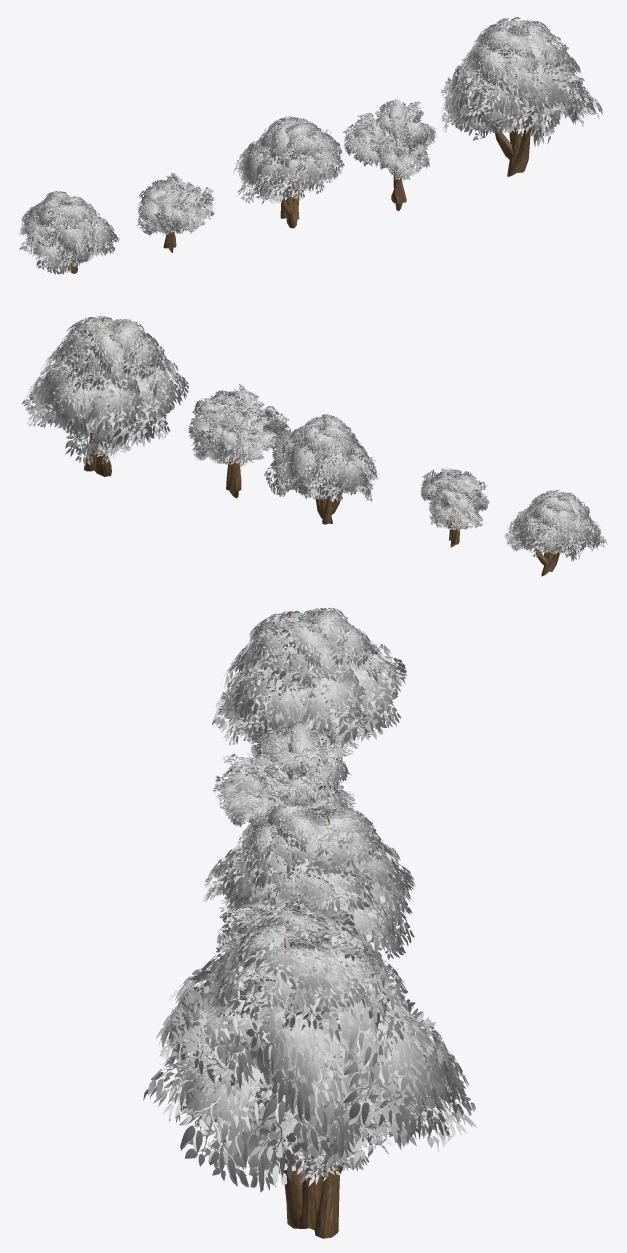
Rendered from Mini_Trees_A1.fbx.
3 views of the same model, one above another, from view 1: azimuth 30°, elevation 25°; view 2: azimuth 150°, elevation 25°; view 3: azimuth 270°, elevation 25° (orthographic). The views are drawn at different scales.
Parts seen in each view (by area): view 1: Mini_Tree_1A5, a5, Mini_Tree_1A3, Mini_Tree_1A1, a3, Mini_Tree_1A4, b5, a1, a4, Mini_Tree_1A2, a2, b4 (+3 smaller); view 2: Mini_Tree_1A5, a5, Mini_Tree_1A3, Mini_Tree_1A4, a3, Mini_Tree_1A1, b5, a4, a1, Mini_Tree_1A2, b4, a2 (+3 smaller); view 3: Mini_Tree_1A5, a5, Mini_Tree_1A1, Mini_Tree_1A3, b5, a1, a3, Mini_Tree_1A2, a2, b1, b2, b3 (+3 smaller).
Boxes of the visible parts, bbox=[...] form: Mini_Tree_1A5: bbox=[439, 17, 602, 176]; a5: bbox=[441, 18, 602, 175]; Mini_Tree_1A3: bbox=[234, 116, 344, 227]; Mini_Tree_1A1: bbox=[18, 191, 117, 273]; a3: bbox=[236, 116, 342, 228]; Mini_Tree_1A4: bbox=[343, 99, 435, 210]; b5: bbox=[441, 24, 599, 176]; a1: bbox=[19, 190, 116, 273]; a4: bbox=[345, 100, 434, 211]; Mini_Tree_1A2: bbox=[137, 173, 214, 252]; a2: bbox=[138, 174, 214, 251]; b4: bbox=[344, 101, 437, 210]; Mini_Tree_1A5: bbox=[24, 316, 188, 476]; a5: bbox=[21, 315, 186, 476]; Mini_Tree_1A3: bbox=[264, 414, 376, 524]; Mini_Tree_1A4: bbox=[188, 384, 289, 497]; a3: bbox=[264, 414, 377, 524]; Mini_Tree_1A1: bbox=[505, 490, 606, 574]; b5: bbox=[24, 322, 188, 476]; a4: bbox=[190, 385, 287, 497]; a1: bbox=[505, 490, 607, 575]; Mini_Tree_1A2: bbox=[420, 468, 489, 544]; b4: bbox=[190, 389, 288, 497]; a2: bbox=[421, 468, 489, 546]; Mini_Tree_1A5: bbox=[148, 907, 471, 1237]; a5: bbox=[143, 905, 469, 1238]; Mini_Tree_1A1: bbox=[213, 608, 405, 755]; Mini_Tree_1A3: bbox=[205, 797, 414, 954]; b5: bbox=[153, 921, 476, 1238]; a1: bbox=[212, 607, 406, 755]; a3: bbox=[204, 796, 415, 954]; Mini_Tree_1A2: bbox=[213, 721, 353, 826]; a2: bbox=[215, 722, 351, 826]; b1: bbox=[214, 612, 407, 757]; b2: bbox=[213, 725, 355, 826]; b3: bbox=[203, 807, 414, 959].
Bounding box in the file's own units: 1781 × 460 × 506.
